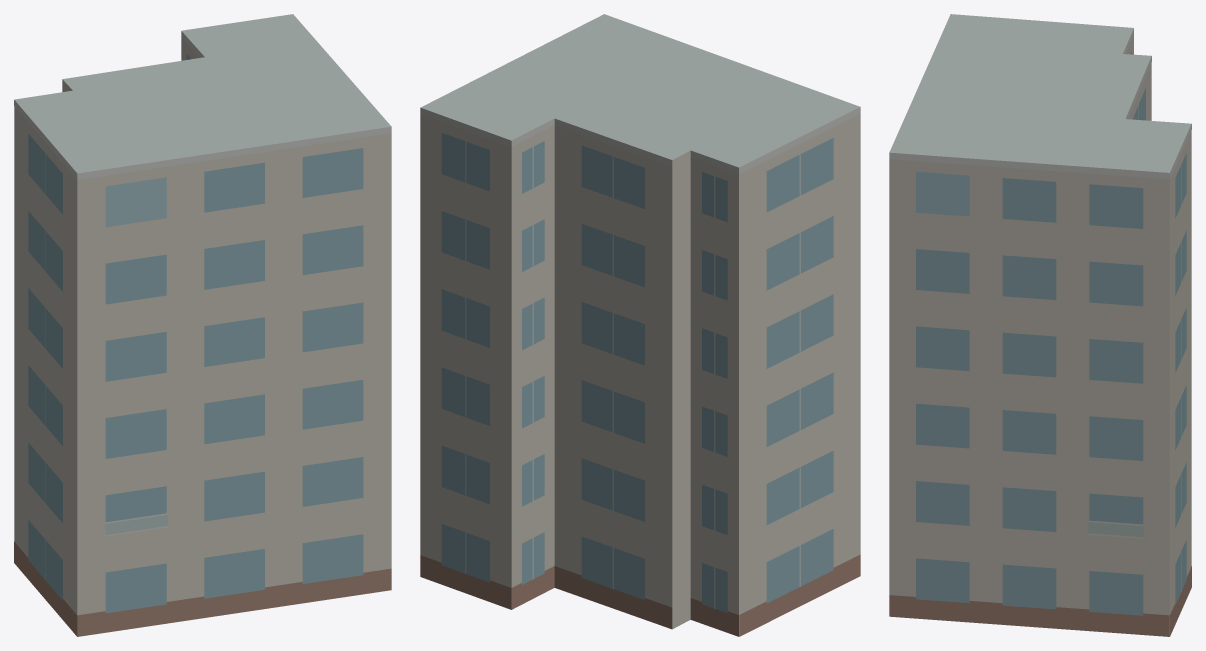
File: survey-upis-33031781.glb
3 renders of one model, left to right at view 1: azimuth 30°, elevation 25°; view 2: azimuth 150°, elevation 25°; view 3: azimuth 270°, elevation 25°, orthographic.
Visible parts, largest first — view 1: survey-upis-33031781.tmp; view 2: survey-upis-33031781.tmp; view 3: survey-upis-33031781.tmp.
Part boxes in pixels (x1=…): survey-upis-33031781.tmp: x1=14, y1=14, x2=391, y2=636; survey-upis-33031781.tmp: x1=420, y1=14, x2=860, y2=636; survey-upis-33031781.tmp: x1=889, y1=14, x2=1191, y2=636.
Size of the model in its own units: 12.86 by 17.5 by 10.35.
